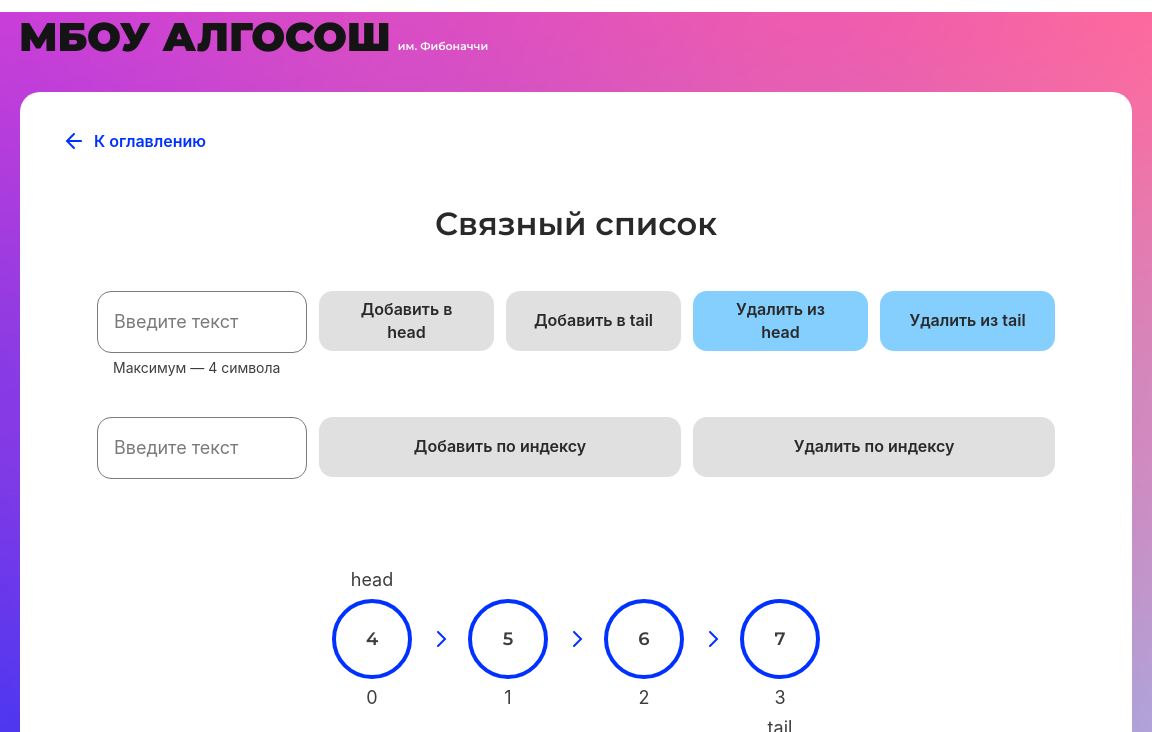
Test case: list works right › removing element drom tail
Check: the number of elements with test id "listCircle" is 4, box [332,599,452,679]; [468,599,588,679]; [604,599,724,679]; [740,599,820,679]
Click the button "Удалить из tail". click: (968, 321)
box: [880,291,1055,351]
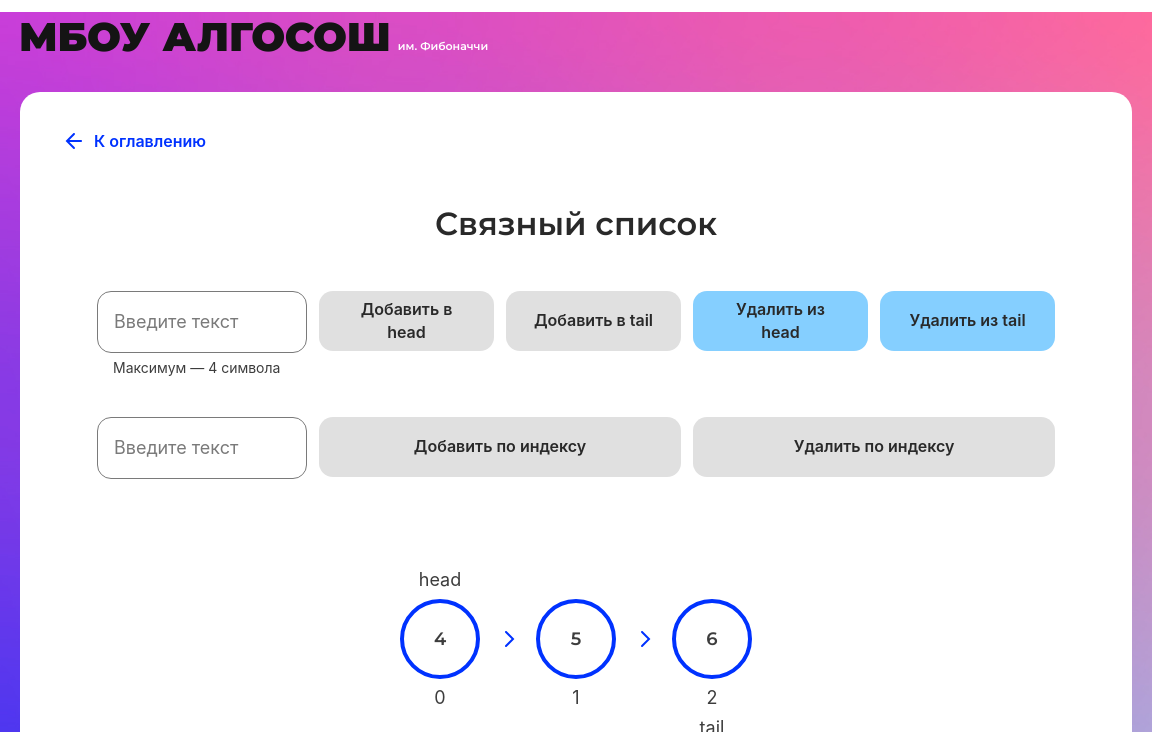
Check: the text with test id "circleTail" reads "tail", box [700,717,725,731]
Check: the number of elements with test id "listCircle" is 3, box [400,599,520,679]; [536,599,656,679]; [672,599,752,679]
